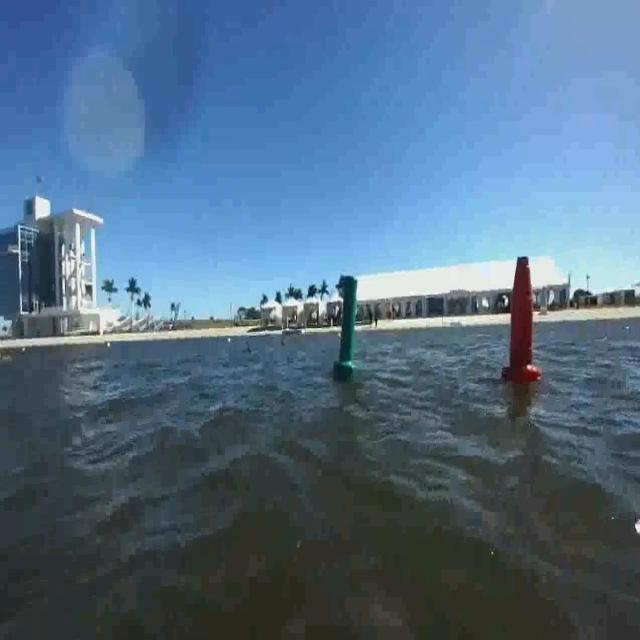green-column-buoy: (336, 271, 362, 376)
red-column-buoy: (500, 253, 540, 382)
